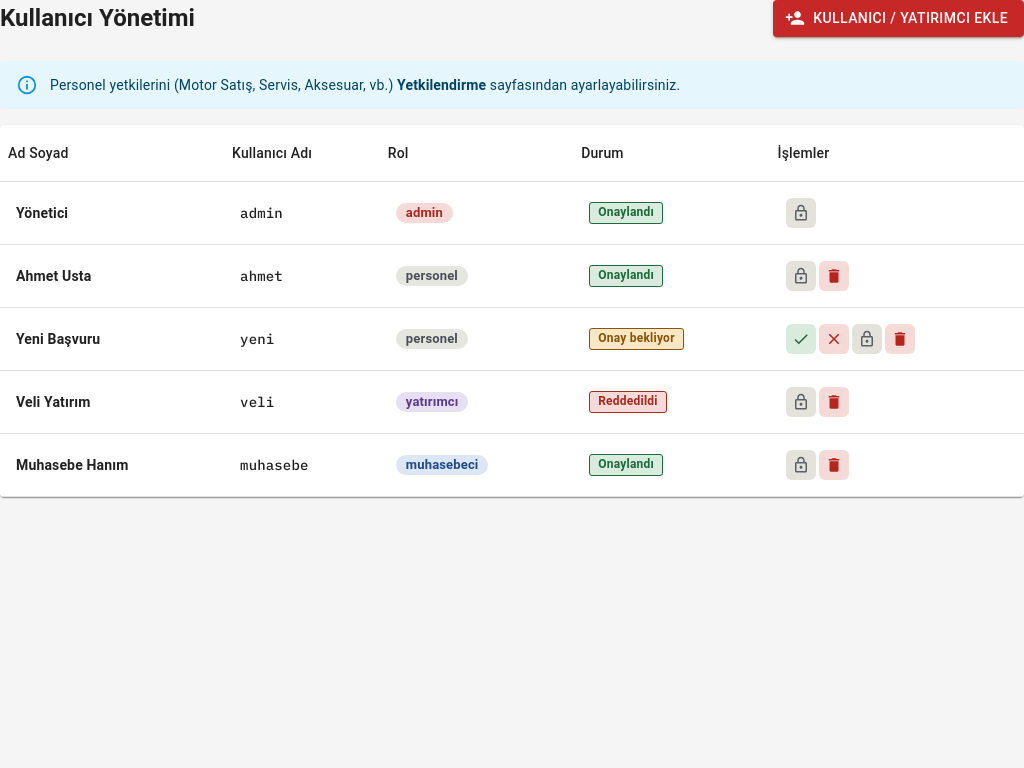
Test: Kullanıcılar: silme › sunucu silmeyi reddederse mesaj sayfada gösterilir
expect the text "Ahmet Usta" is shown: met, box [0,244,224,307]
Click the button with test id "DeleteIcon" at (834, 276), box [819,260,849,290]
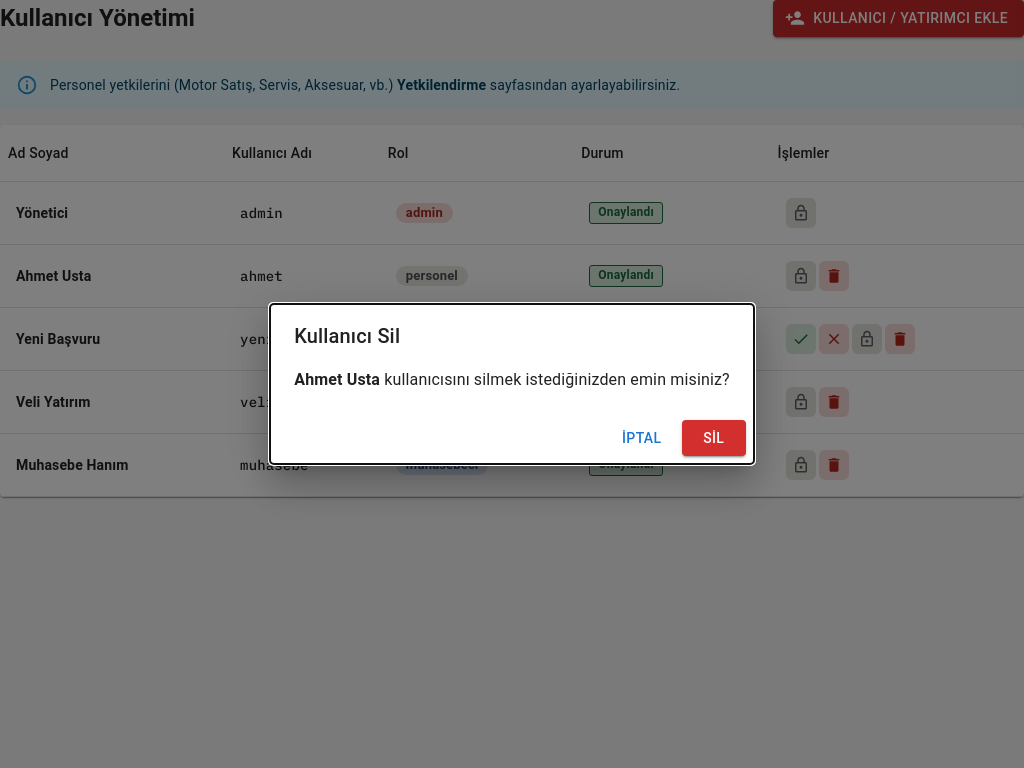
Click the button "Sil" at (714, 438), box [682,420,746,456]
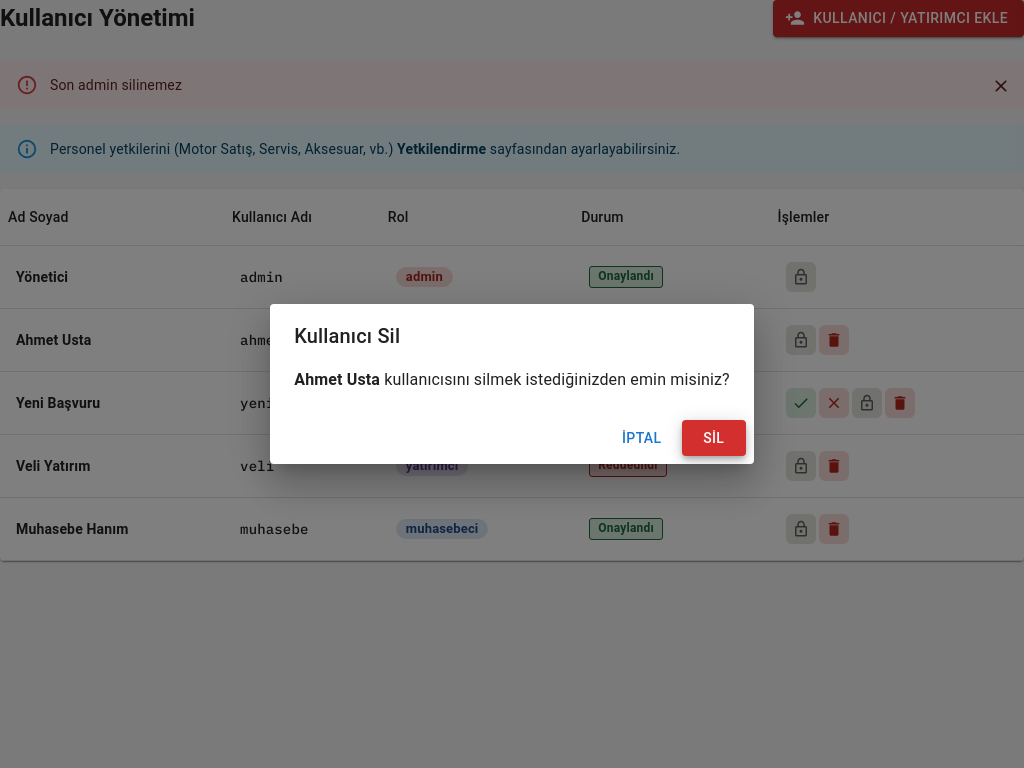
expect the text "Son admin silinemez" is shown: met, box [50,76,182,92]
